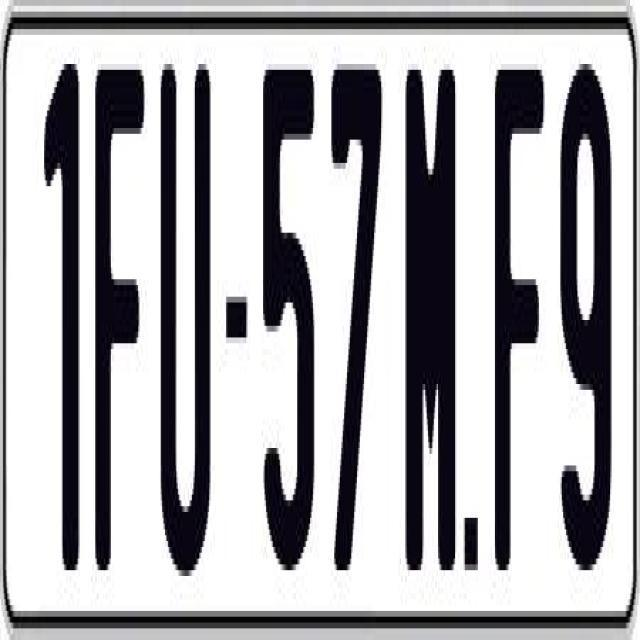1: (41, 58, 84, 570)
5: (260, 58, 320, 559)
7: (327, 52, 380, 564)
9: (558, 47, 614, 564)
F: (492, 58, 549, 564), (96, 52, 146, 564)
M: (401, 64, 451, 570)
U: (158, 58, 215, 599)
